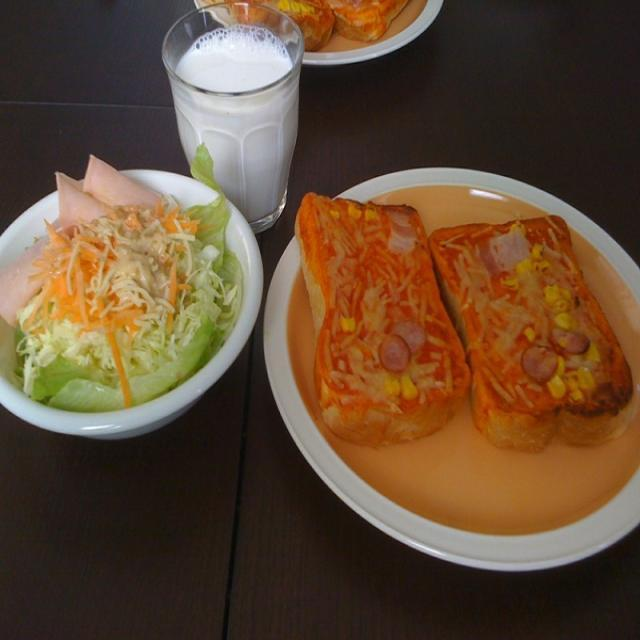Green Salad: (0, 156, 245, 422)
